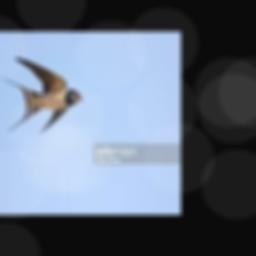Swallow: (2, 57, 83, 133)
